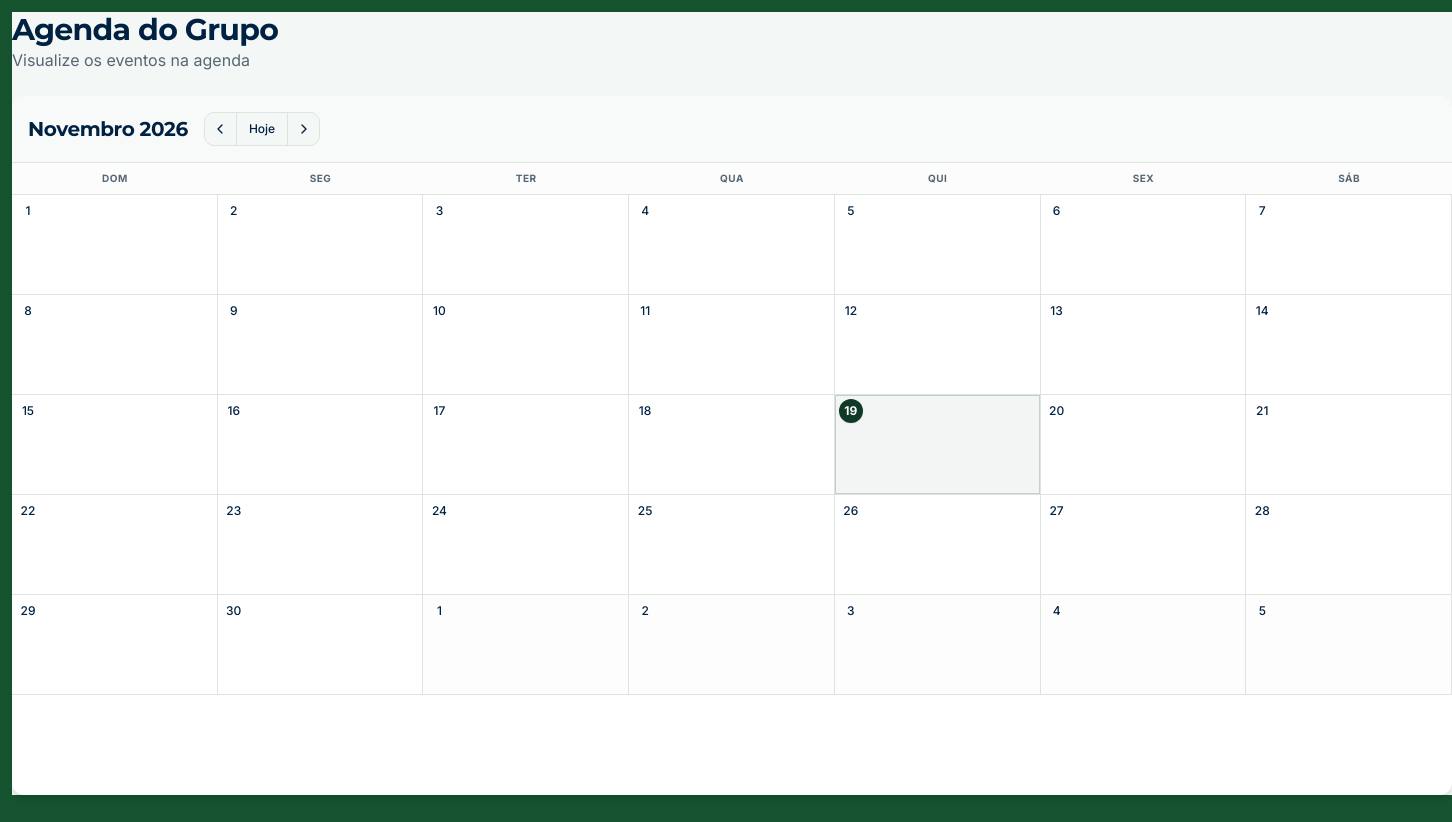
Scenario: Seção Informativo do card de evento › aparece quando o evento tem descrição
Click the element showing "19" at (938, 445), box [835,395,1040,495]
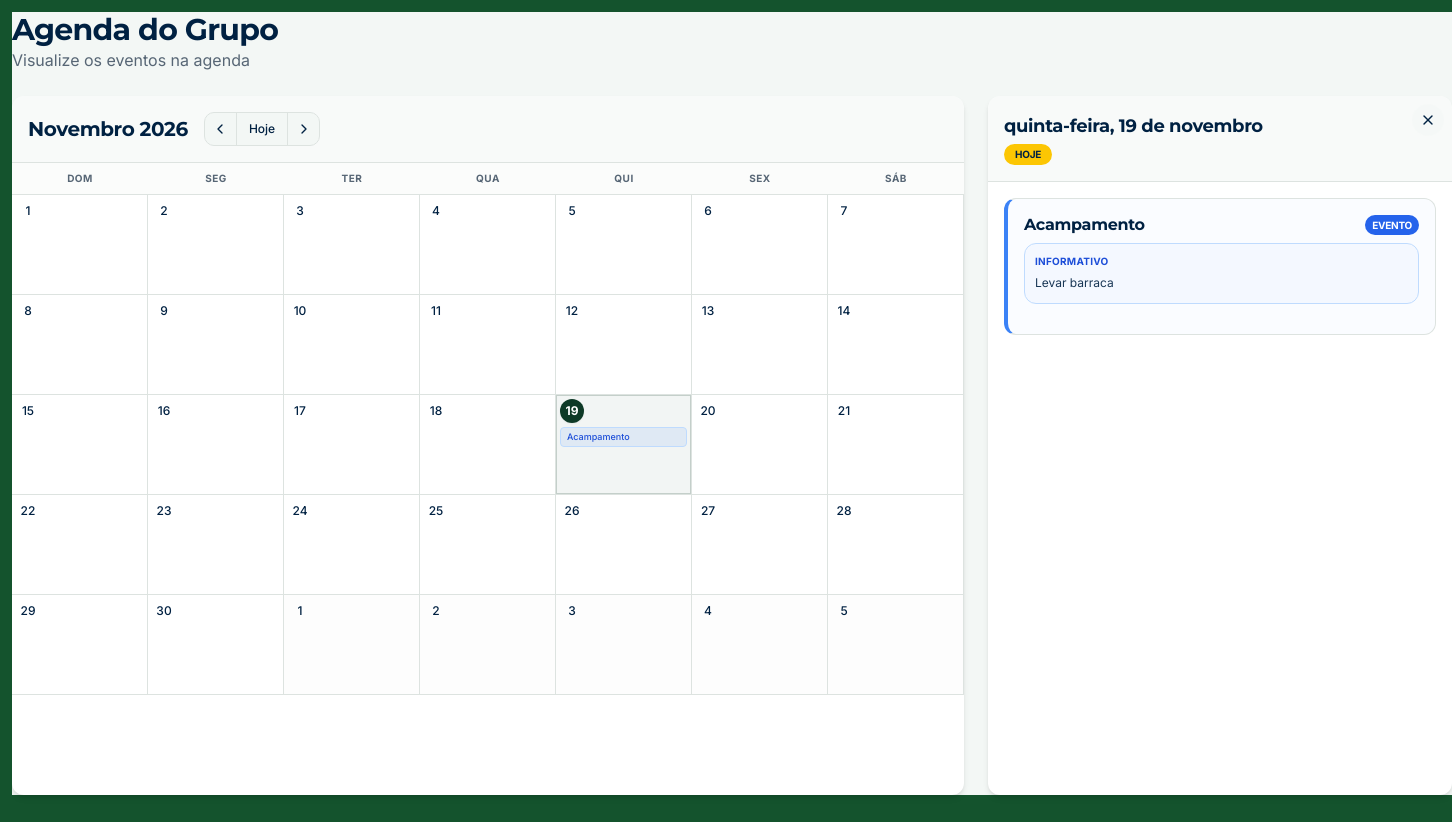
Expected: the element with test id "informativo-section" is shown, [1024,243,1419,304]
Expected: the text "Informativo" is shown, [1035,255,1108,267]
Expected: the text "Levar barraca" is shown, [1035,275,1114,290]
